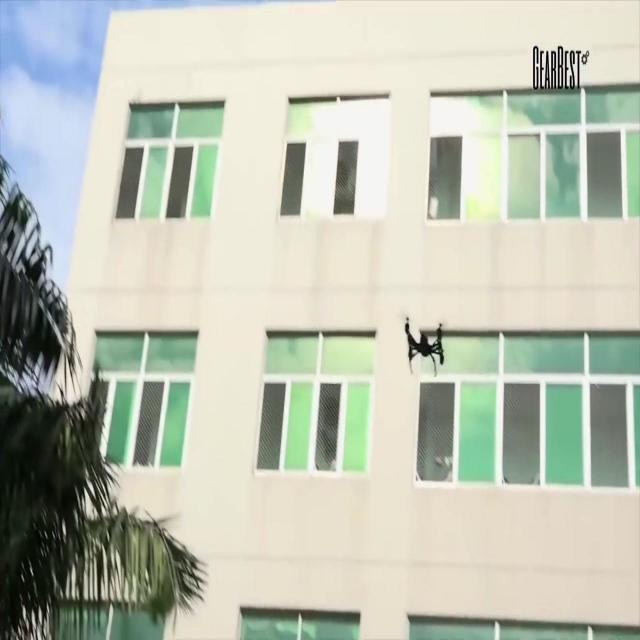UAV: (405, 317, 444, 377)
